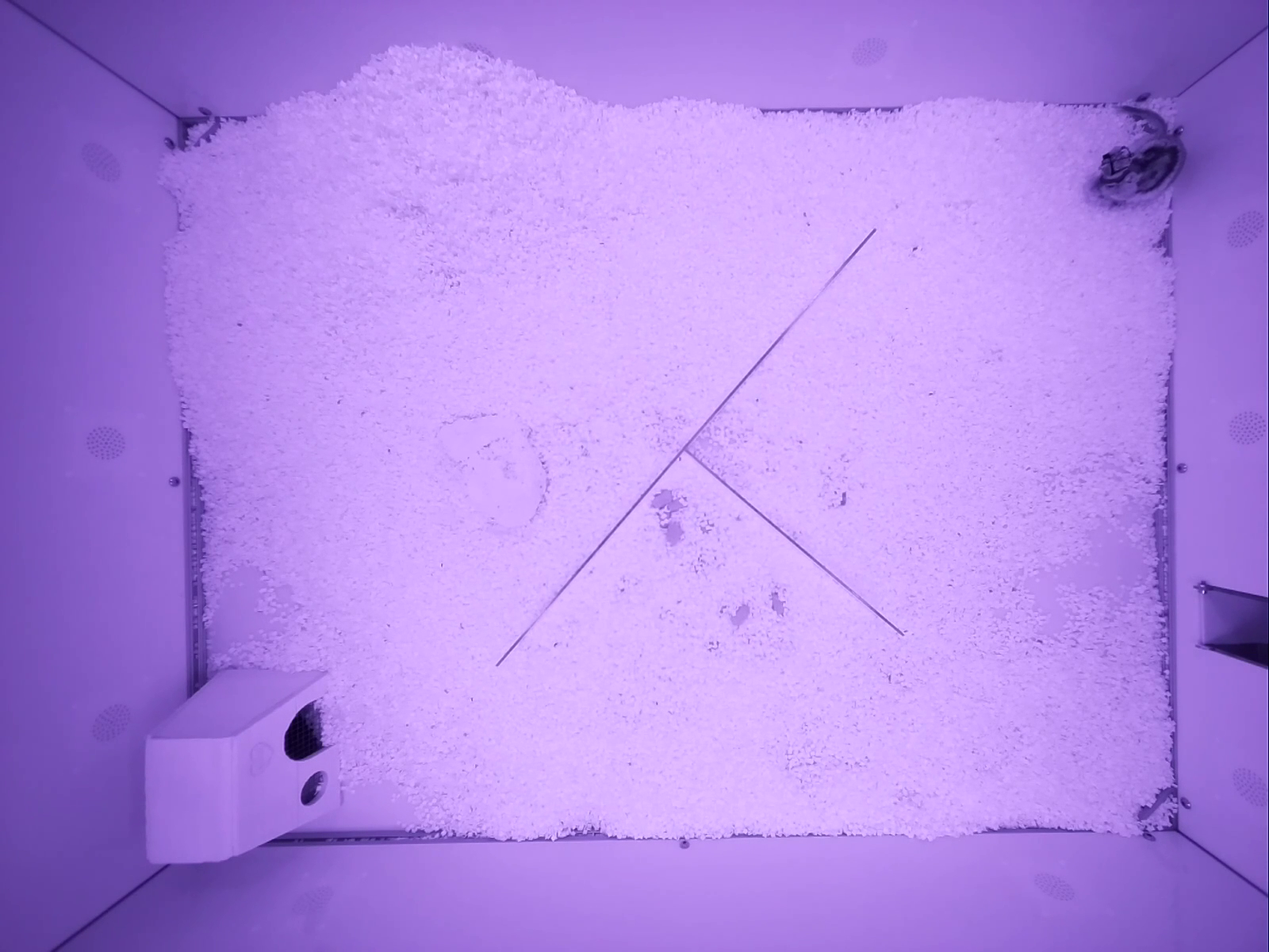adult_back: (1090, 105, 1185, 205)
